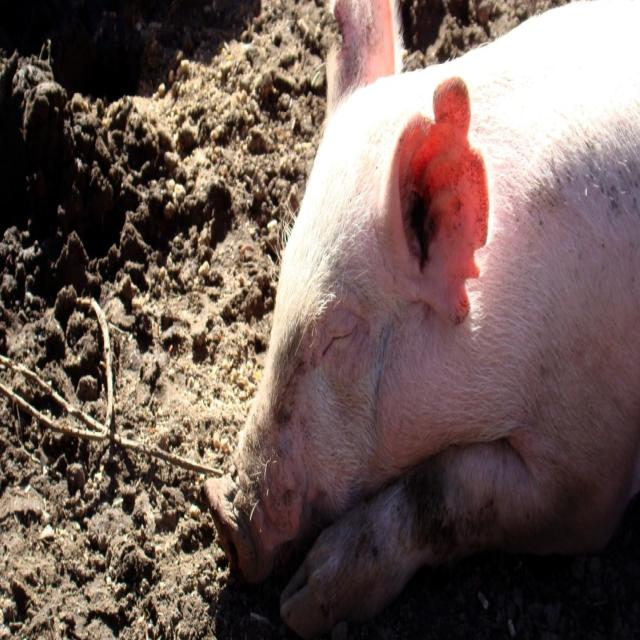pig: (204, 0, 640, 640)
